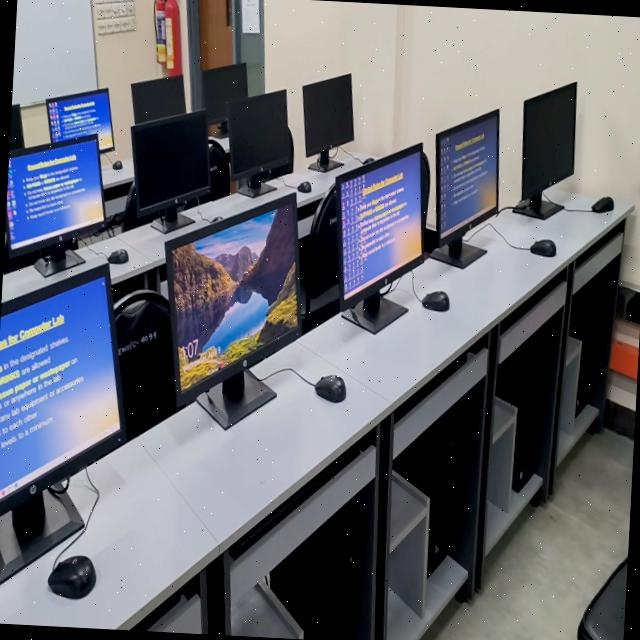Chair: (114, 289, 177, 438), (577, 551, 628, 640), (306, 184, 338, 297), (207, 138, 229, 199)
Cpu: (392, 379, 482, 583), (270, 481, 372, 640), (496, 308, 562, 504), (569, 252, 619, 429)
Fire Extinguisher: (152, 0, 181, 75)
Monitor: (0, 275, 124, 503), (171, 203, 296, 389), (338, 148, 421, 300), (5, 134, 104, 254), (131, 110, 211, 231), (435, 109, 499, 251), (521, 82, 575, 198), (227, 89, 292, 179), (302, 73, 352, 171), (45, 88, 113, 152), (201, 62, 247, 123), (130, 74, 185, 123)
Mouse: (47, 554, 95, 598), (313, 375, 345, 401), (421, 290, 449, 311), (529, 238, 555, 256), (590, 195, 613, 212), (107, 248, 127, 263), (296, 180, 310, 192), (362, 156, 374, 164), (112, 159, 121, 168)
